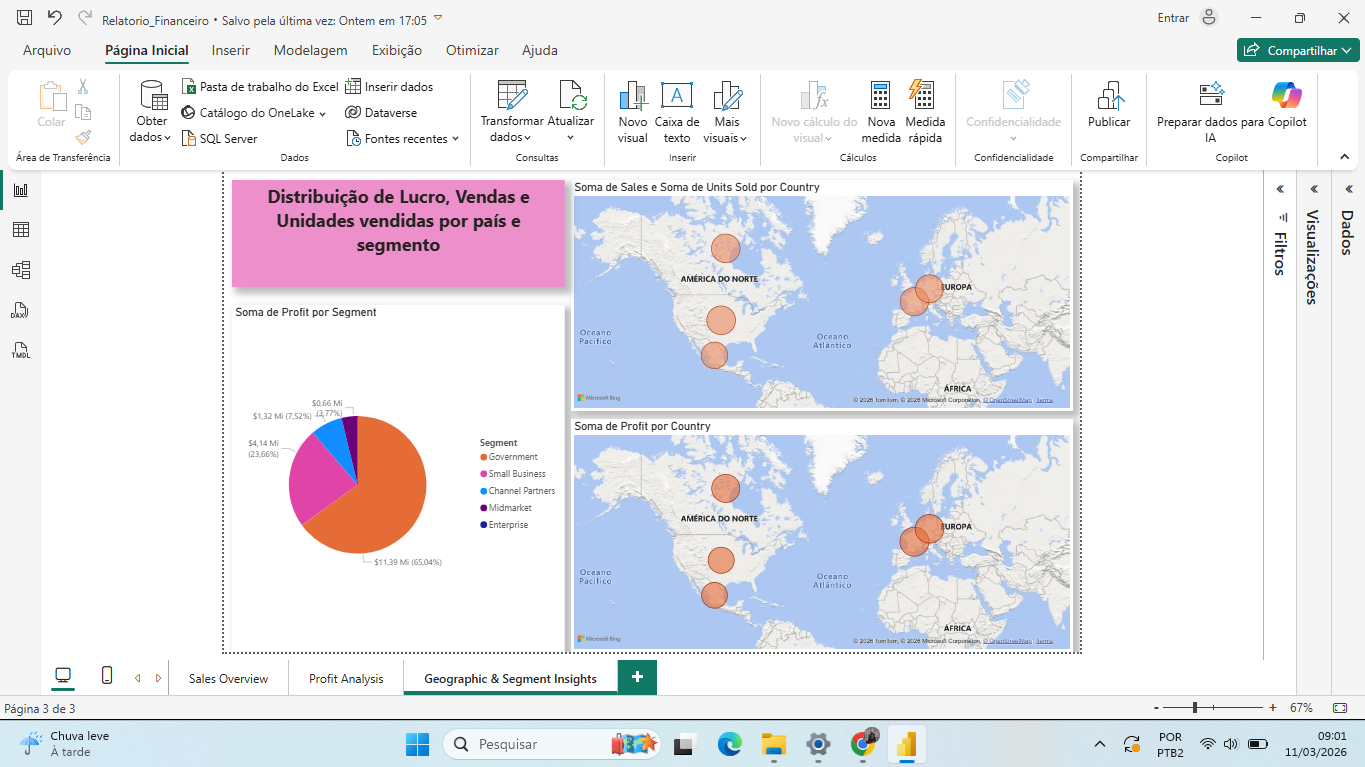

Layout of this report page (visuals, bound fields, positions):
{"tool":"powerbi","page":{"name":"Geographic & Segment Insights","canvas":[1280,720],"ordinal":2},"visuals":[{"type":"pieChart","fields":{"Category":["financials.Segment"],"Y":["Sum(financials.Profit)"]},"box":[12,201.7,497.4,518.3],"z":0},{"type":"map","fields":{"Category":["financials.Country"],"Size":["Sum(financials.Sales)"]},"box":[518.3,14.9,749.9,345.1],"z":1000},{"type":"map","fields":{"Category":["financials.Country"],"Size":["Sum(financials.Profit)"]},"box":[518.3,372,749.9,348],"z":2000},{"type":"textbox","box":[12,14.9,497.4,159.8],"z":3000}]}

Visuals, with their boxes on the page's 1280x720 design canvas (x1, y1, x2, y2). These are canvas units, not pixel positions in the 1365x767 screenshot, which may show the page scaled, cropped or inside an application window:
pieChart - financials.Segment x Sum(financials.Profit): box(12, 202, 509, 720)
map - financials.Country x Sum(financials.Sales): box(518, 15, 1268, 360)
map - financials.Country x Sum(financials.Profit): box(518, 372, 1268, 720)
textbox: box(12, 15, 509, 175)
